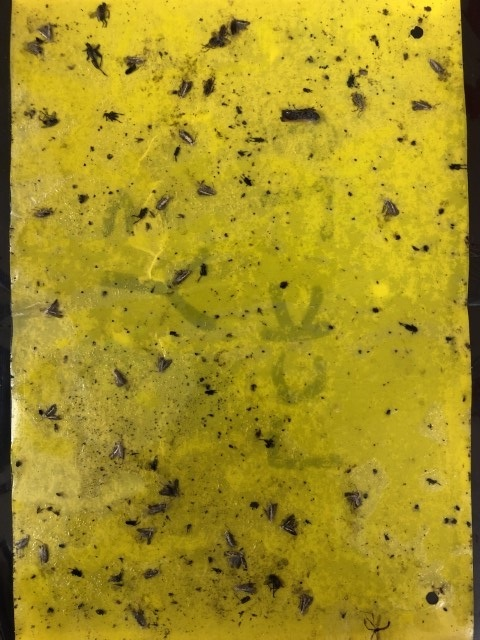DBM: (409, 96, 445, 118), (168, 266, 194, 292), (340, 485, 366, 511), (223, 549, 250, 573), (39, 399, 64, 424), (104, 438, 130, 462), (156, 478, 184, 500), (380, 196, 403, 222), (41, 297, 66, 320), (109, 364, 132, 389), (426, 57, 450, 80), (226, 15, 251, 37), (294, 590, 314, 617), (135, 525, 158, 548), (22, 38, 46, 59), (176, 126, 200, 147), (192, 180, 216, 201), (152, 193, 176, 213), (279, 512, 298, 537), (233, 578, 258, 597), (38, 20, 59, 42), (153, 354, 174, 375), (259, 502, 279, 524), (36, 541, 52, 566), (145, 502, 168, 519), (176, 76, 193, 98), (224, 527, 241, 549), (14, 535, 32, 552)
